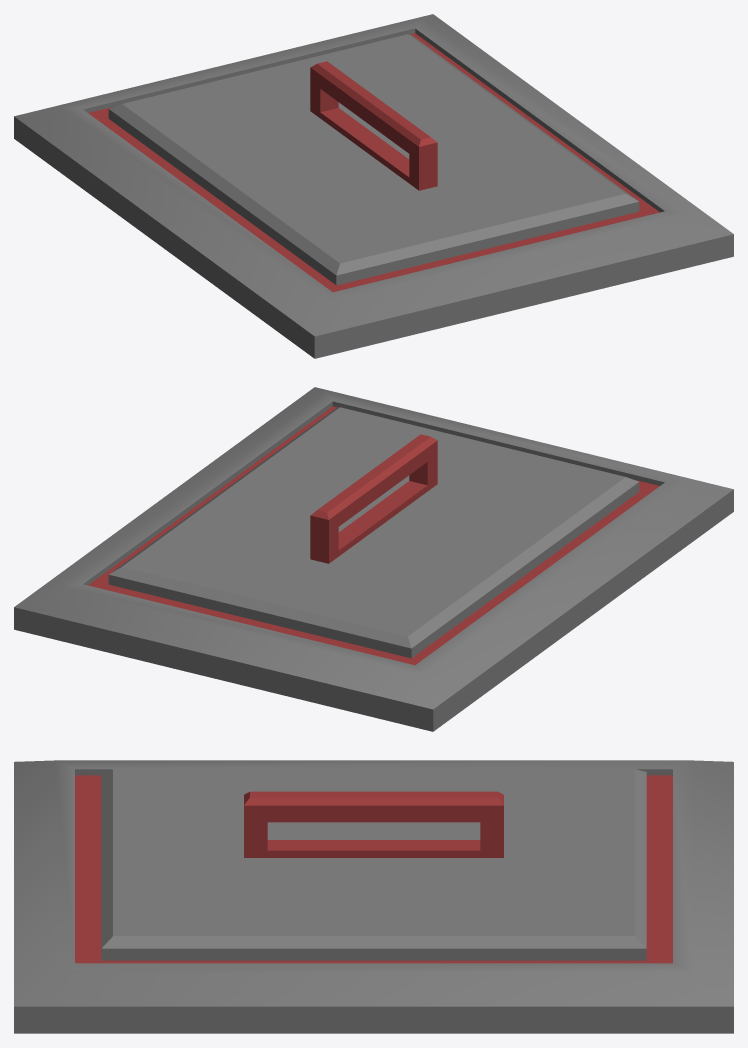
File: Anim_Obj_Tapa_de_Ingredientes.fbx
The picture shows the model from 3 angles, top to bottom: view 1: azimuth 30°, elevation 25°; view 2: azimuth 150°, elevation 25°; view 3: azimuth 270°, elevation 25°; orthographic projection. The views are drawn at different scales.
Parts seen in each view (by area): view 1: Tapa_de_Ingredientes; view 2: Tapa_de_Ingredientes; view 3: Tapa_de_Ingredientes.
Boxes of the visible parts, x1,y1,x2,y2 form: Tapa_de_Ingredientes: [14, 14, 733, 358]; Tapa_de_Ingredientes: [14, 387, 733, 731]; Tapa_de_Ingredientes: [14, 760, 733, 1033].
Bounding box in the file's own units: 1 × 0.2218 × 1.24.
